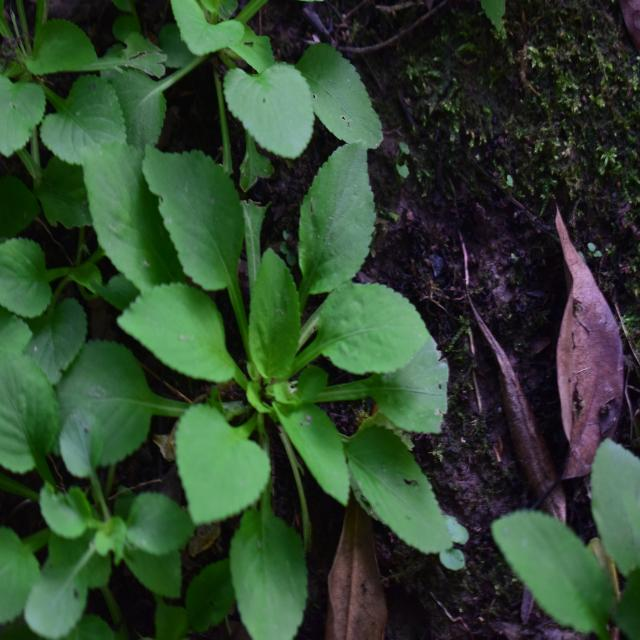Viola: (116, 132, 474, 574)
